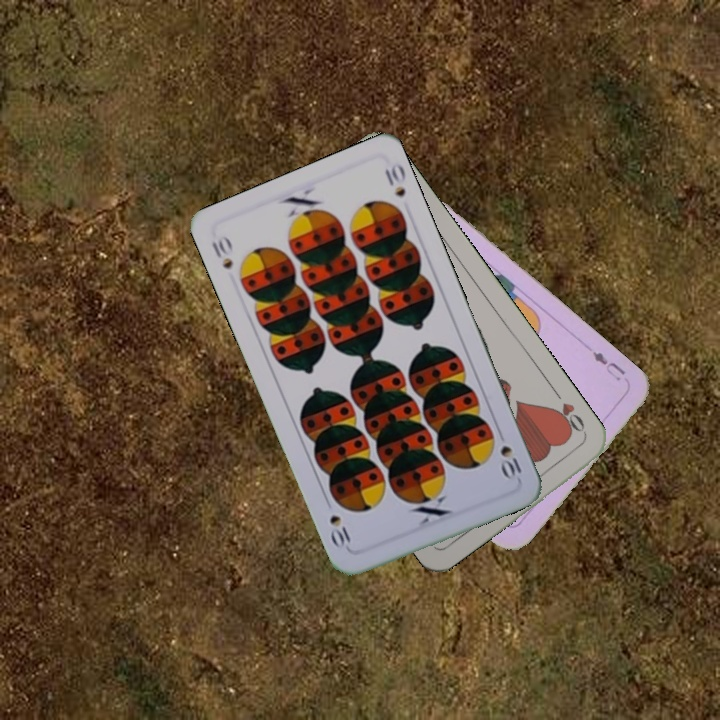EU: (588, 347, 628, 384)
HO: (547, 386, 590, 439)
S10: (493, 425, 526, 483), (207, 232, 236, 272)
